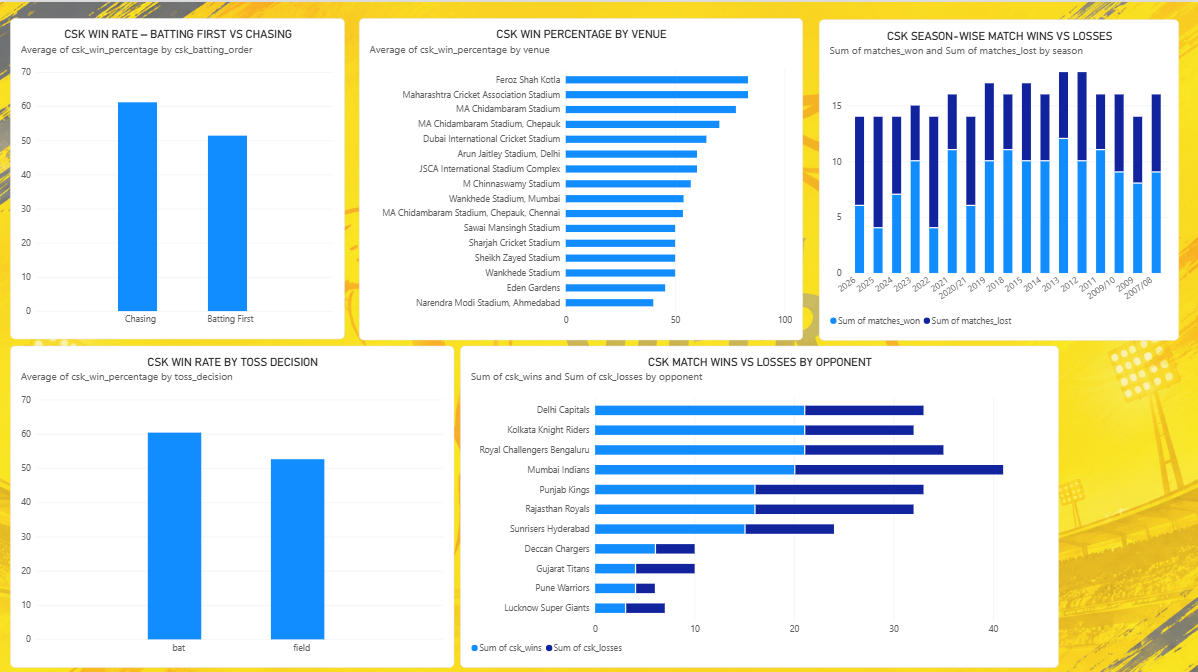

This screenshot's page, from the dashboard's own definition file:
{"tool":"powerbi","page":{"name":"Team Performance Analysis!","canvas":[1920,1080],"ordinal":2},"visuals":[{"type":"clusteredColumnChart","title":"CSK WIN RATE – BATTING FIRST VS CHASING","fields":{"Category":["csk_chase_analysis.csk_batting_order"],"Y":["Avg(csk_chase_analysis.csk_win_percentage)"]},"box":[17.5,26.2,535,513.8],"z":0},{"type":"clusteredColumnChart","title":"CSK WIN RATE BY TOSS DECISION","fields":{"Category":["csk_toss_analysis.toss_decision"],"Y":["Avg(csk_toss_analysis.csk_win_percentage)"]},"box":[18,550,710,515],"z":1},{"type":"clusteredBarChart","title":"CSK WIN PERCENTAGE BY VENUE","fields":{"Category":["csk_venue_analysis.venue"],"Y":["Avg(csk_venue_analysis.csk_win_percentage)"]},"box":[576.2,26.2,710,515],"z":2},{"type":"barChart","title":"CSK MATCH WINS VS LOSSES BY OPPONENT","fields":{"Category":["csk_opponent_analysis.opponent"],"Y":["Sum(csk_opponent_analysis.csk_wins)","Sum(csk_opponent_analysis.csk_losses)"]},"box":[737.5,550,957.5,515],"z":3},{"type":"columnChart","title":"CSK SEASON-WISE MATCH WINS VS LOSSES","fields":{"Category":["csk_season_performance.season"],"Y":["Sum(csk_season_performance.matches_won)","Sum(csk_season_performance.matches_lost)"]},"box":[1311.2,27.5,576.2,513.8],"z":4}]}

Visuals, with their boxes in screenshot pixels (x1, y1, x2, y2), scaled from the page's 1920x1080 canvas onto the 1198x672 screenshot:
"CSK WIN RATE – BATTING FIRST VS CHASING" clusteredColumnChart: bbox=[11, 16, 345, 336]
"CSK WIN RATE BY TOSS DECISION" clusteredColumnChart: bbox=[11, 342, 454, 663]
"CSK WIN PERCENTAGE BY VENUE" clusteredBarChart: bbox=[360, 16, 803, 337]
"CSK MATCH WINS VS LOSSES BY OPPONENT" barChart: bbox=[460, 342, 1058, 663]
"CSK SEASON-WISE MATCH WINS VS LOSSES" columnChart: bbox=[818, 17, 1178, 337]
